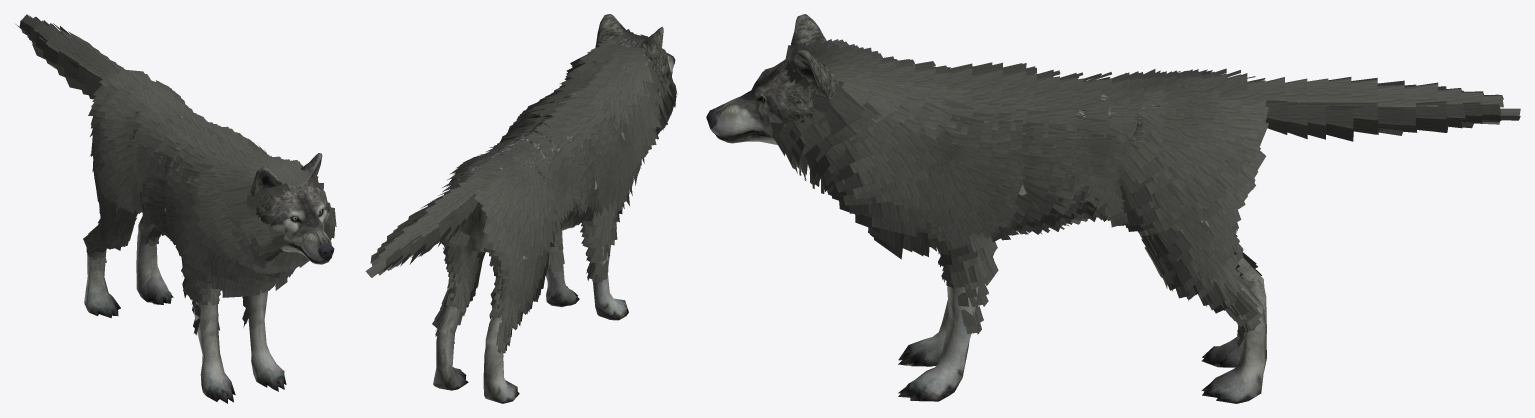
File: wolf.obj
3 views of the same model, side by side, from view 1: azimuth 30°, elevation 25°; view 2: azimuth 150°, elevation 25°; view 3: azimuth 270°, elevation 25° (orthographic). The views are drawn at different scales.
Visible parts, largest first — view 1: WolfFur_WolfFur_WolfFur, WolfBody_WolfBody_WolfBody; view 2: WolfFur_WolfFur_WolfFur, WolfBody_WolfBody_WolfBody; view 3: WolfFur_WolfFur_WolfFur, WolfBody_WolfBody_WolfBody.
Boxes of the visible parts, x1,y1,x2,y2 form: WolfFur_WolfFur_WolfFur: (15,14,336,335); WolfBody_WolfBody_WolfBody: (84,112,334,403); WolfFur_WolfFur_WolfFur: (365,29,677,361); WolfBody_WolfBody_WolfBody: (408,14,675,403); WolfFur_WolfFur_WolfFur: (771,39,1520,346); WolfBody_WolfBody_WolfBody: (706,14,1378,403).
Bounding box in the file's own units: 0.7541 × 1.78 × 3.76.
